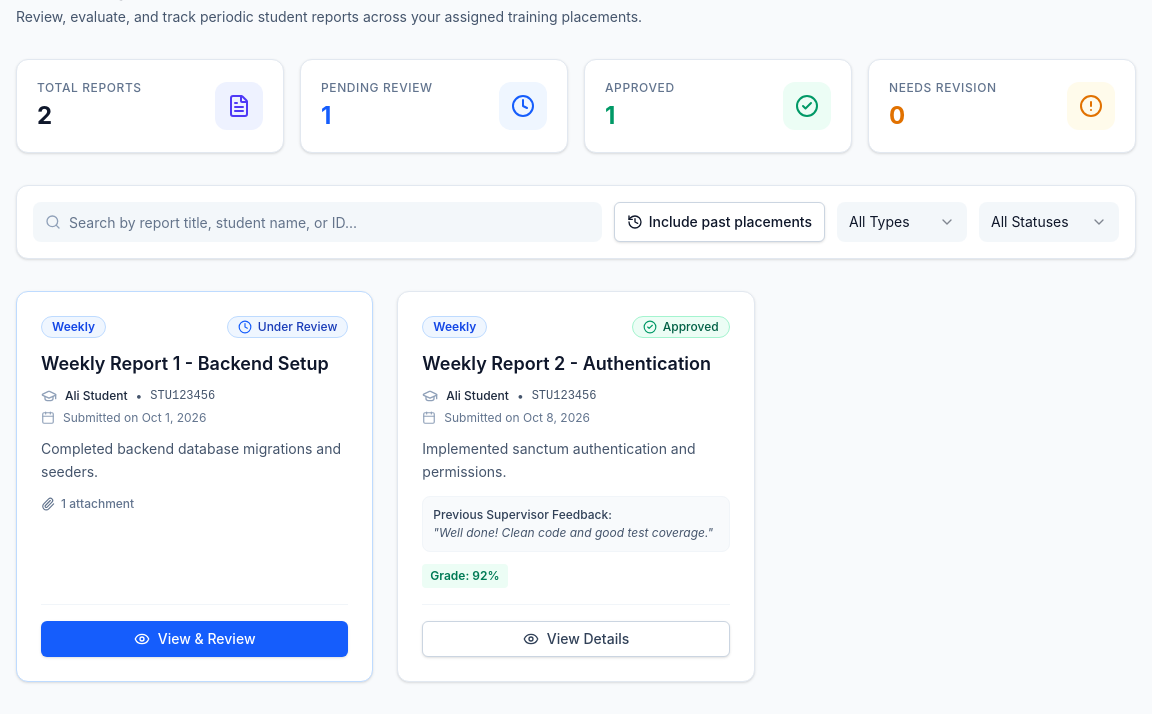
SupervisorReportsPage › validates grade and feedback when approving report
(page scrolled)
Click the button "View & Review" at (195, 638), box left=41, top=620, right=348, bottom=656
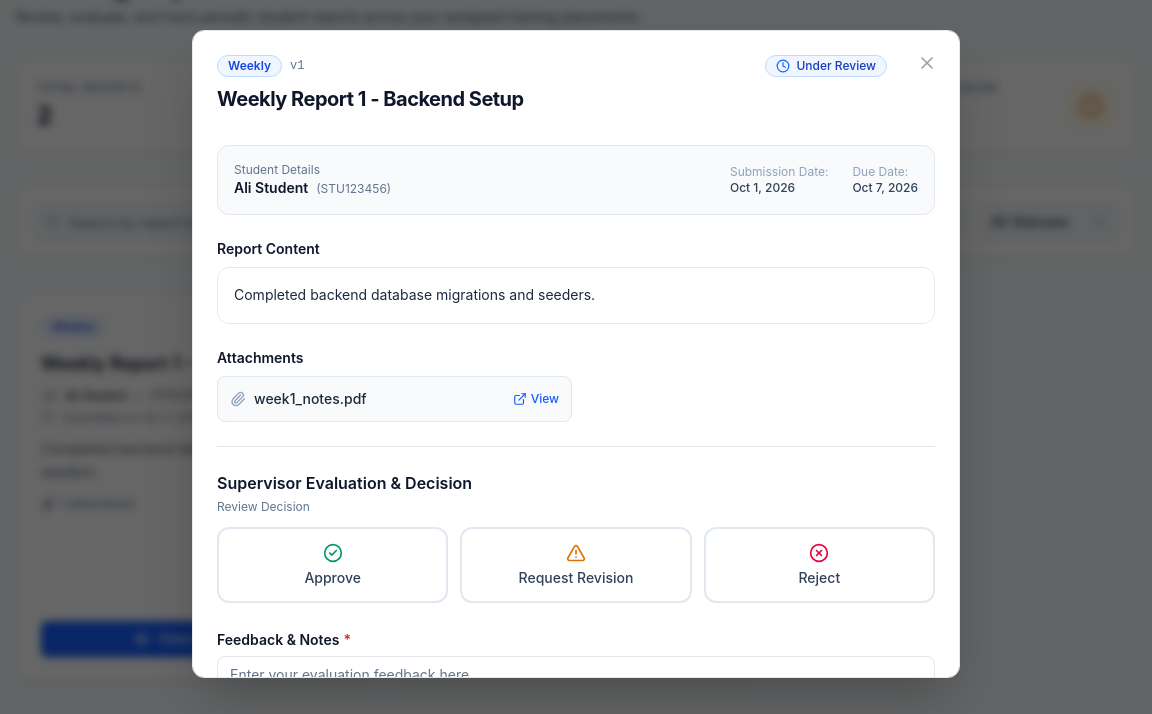
Expected: the dialog is shown
Select Approve decision
Click the button "Approve" at (333, 565), box left=217, top=527, right=448, bottom=603
(page scrolled)
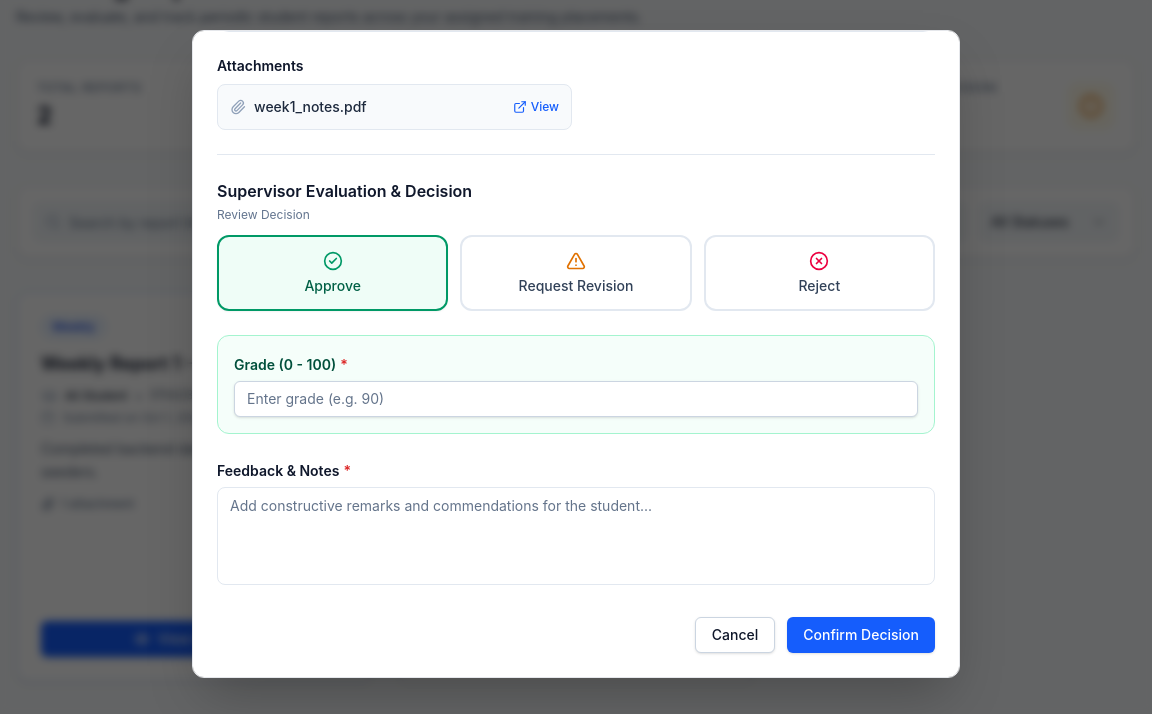
Click the button "Confirm Decision" at (861, 635), box left=787, top=617, right=935, bottom=653
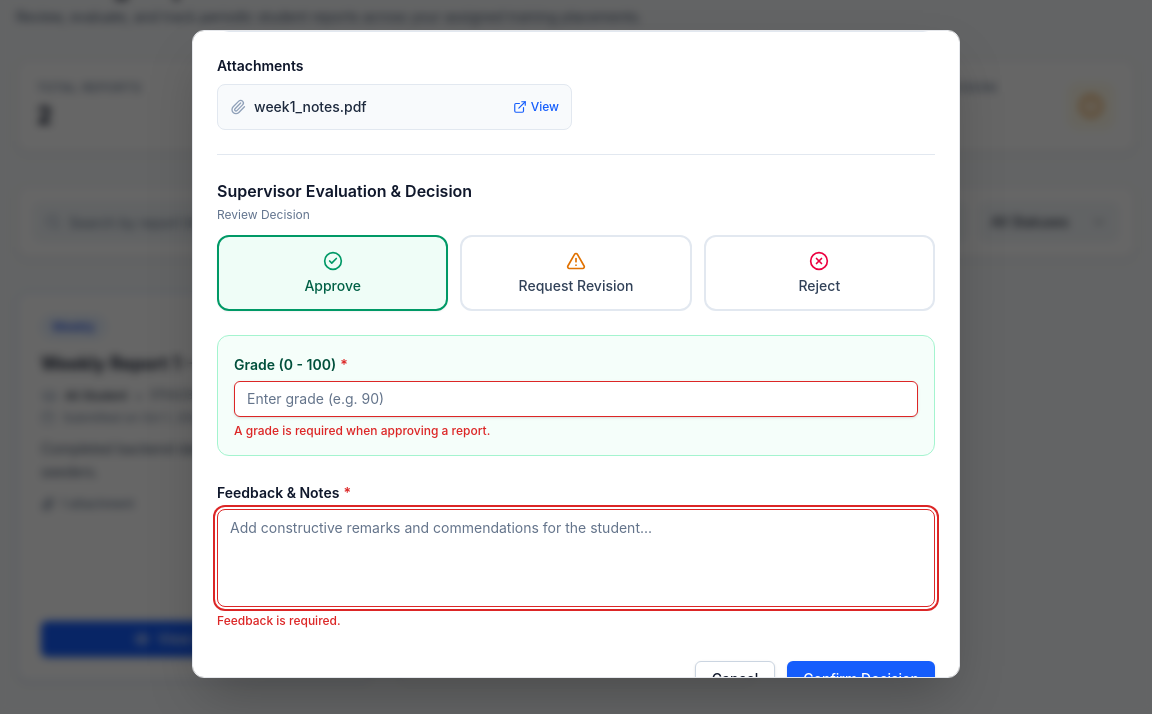
Expected: the text "A grade is required when approving a report." is shown, left=234, top=423, right=490, bottom=438
Expected: the text "Feedback is required." is shown, left=217, top=613, right=341, bottom=628
